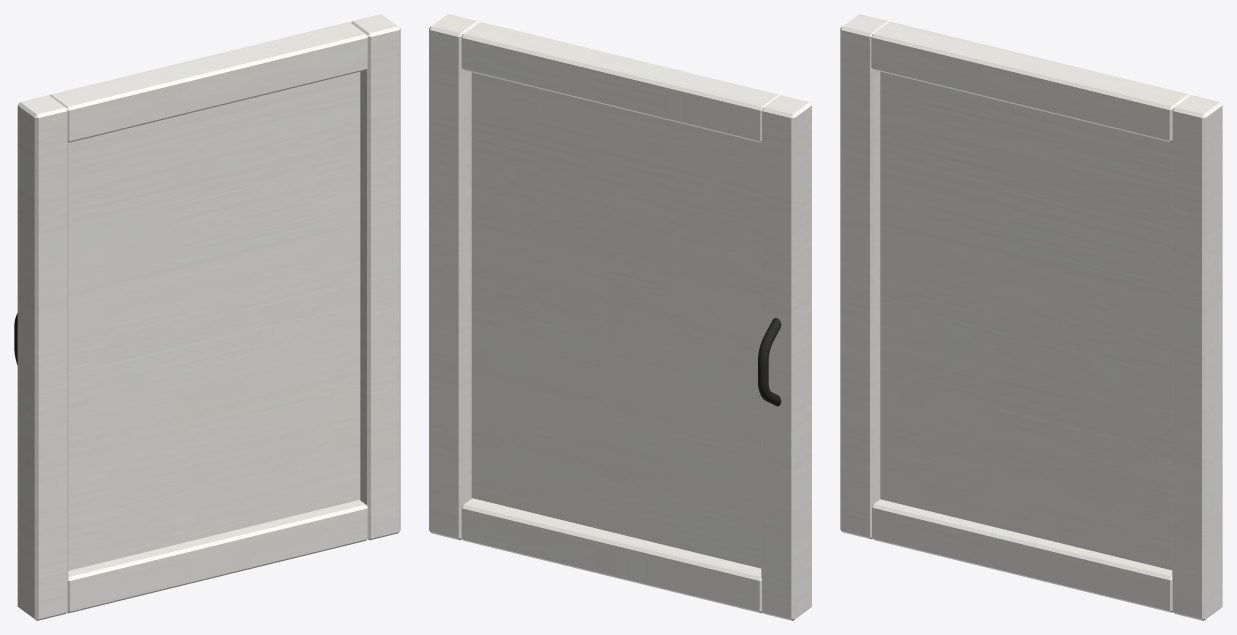
The picture shows the model from 3 angles, left to right: view 1: azimuth 30°, elevation 25°; view 2: azimuth 150°, elevation 25°; view 3: azimuth 330°, elevation 25°; orthographic projection.
Visible parts, largest first — view 1: Object166, Object167; view 2: Object166, Object167, Object168; view 3: Object166, Object167.
Boxes of the visible parts, left/top/right/bottom form: Object166: left=68, top=72, right=360, bottom=570; Object167: left=17, top=14, right=400, bottom=620; Object166: left=471, top=72, right=761, bottom=568; Object167: left=429, top=14, right=811, bottom=620; Object168: left=758, top=318, right=781, bottom=406; Object166: left=880, top=71, right=1172, bottom=570; Object167: left=840, top=14, right=1222, bottom=620.
Size of the model in its own units: 428 by 566 by 72.94.
Materials: 3 (2 with a texture image).
